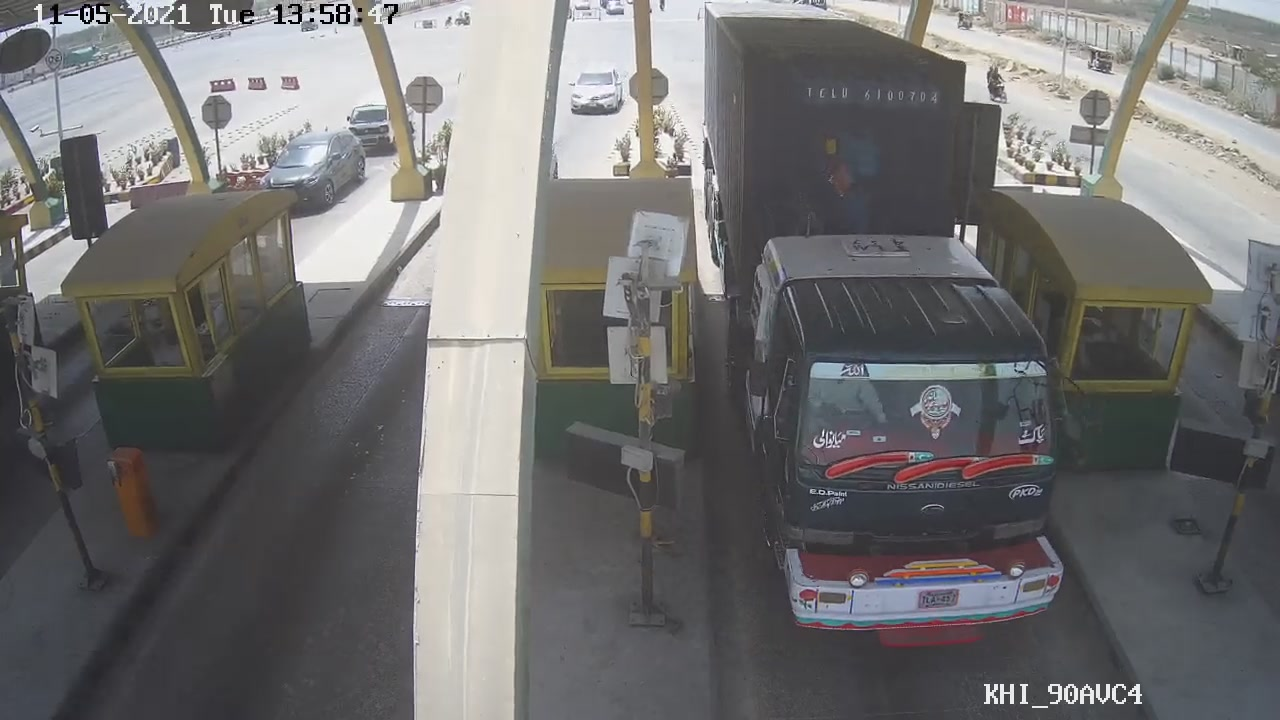F6: (690, 6, 1087, 657)
